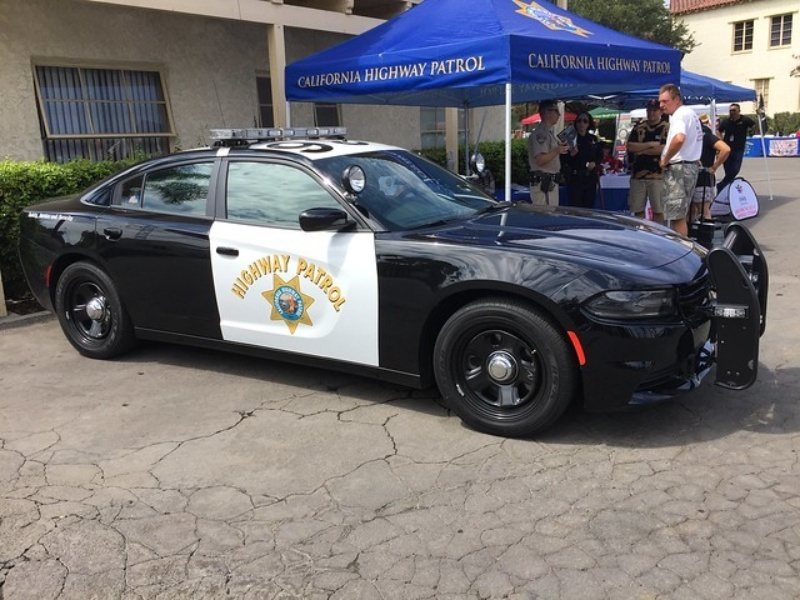policecar: (24, 118, 711, 402)
